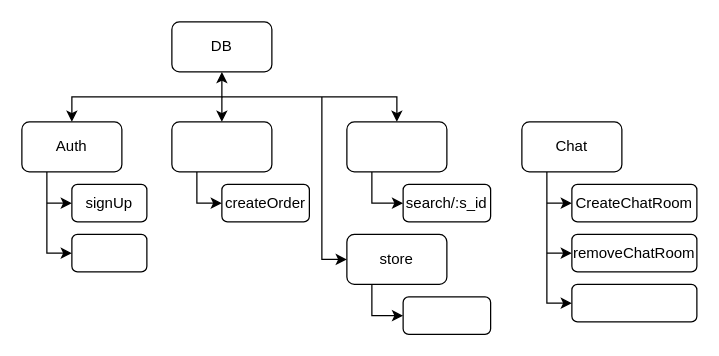
The diagram is 719 pixels wide and 356 high, and some of its shapes have lost their labels. The shapes that lost their labels are listed below. From the top down, each one's centre as x and y in pixels, then its label:
At [221,146]: "Payment".
At [396,146]: "Product".
At [109,252]: "signIn".
At [446,315]: "cvstore".
At [634,302]: "getAllChatRoom".
